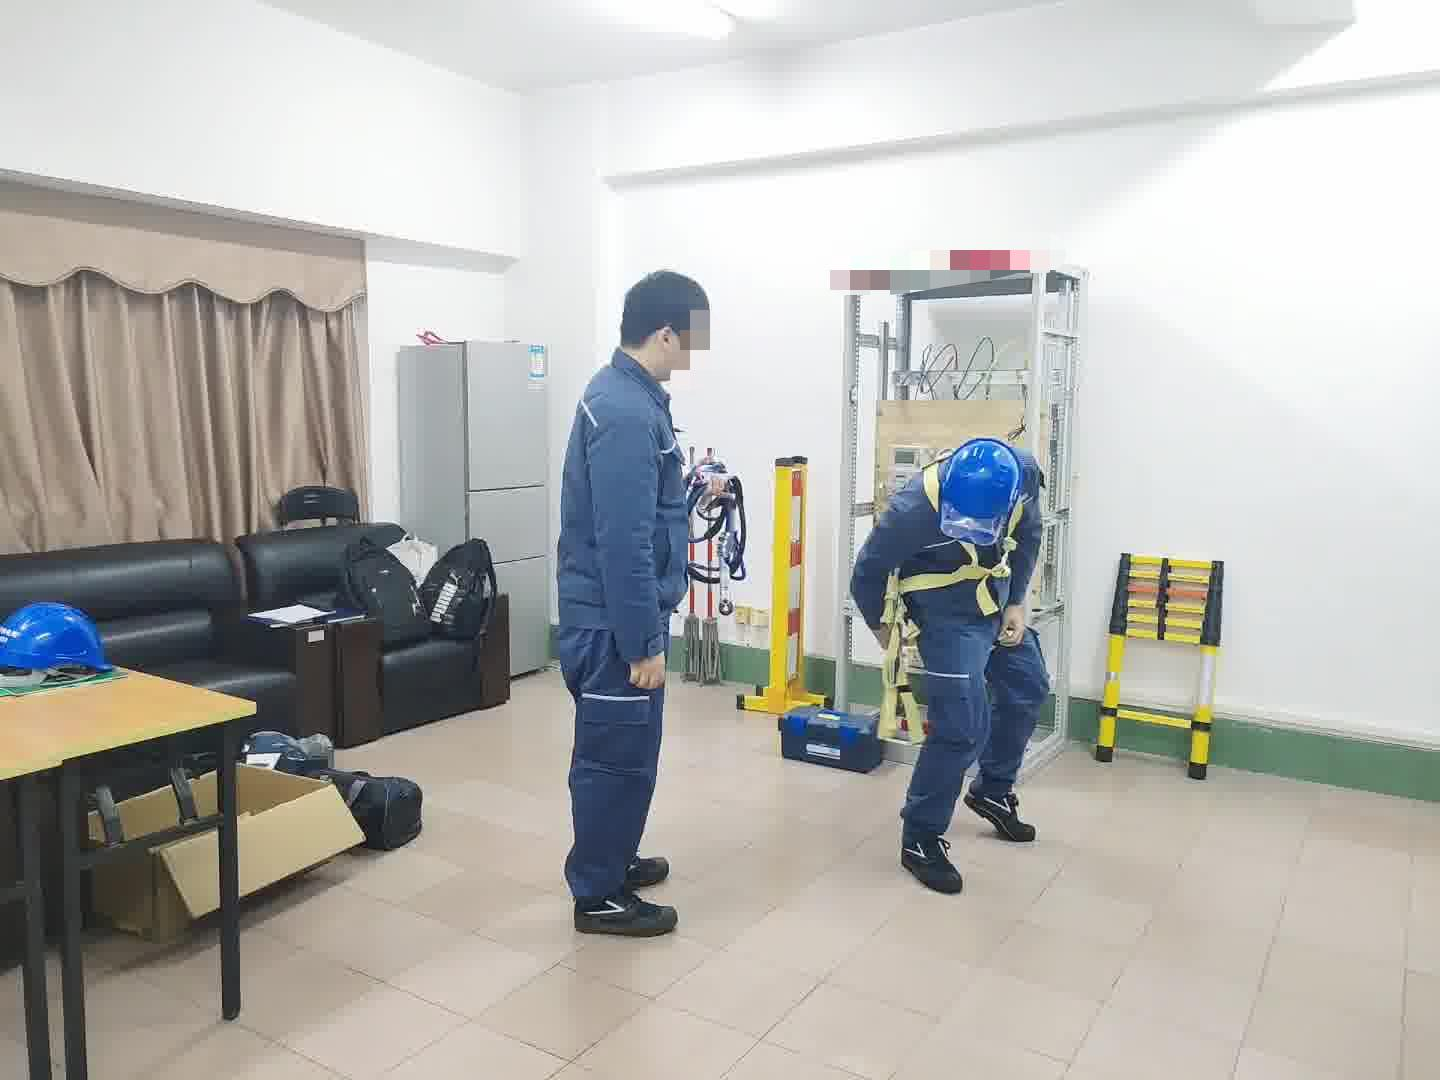halt: (930, 437, 1025, 554)
noear: (649, 320, 691, 382)
unhalt: (619, 271, 718, 379)
